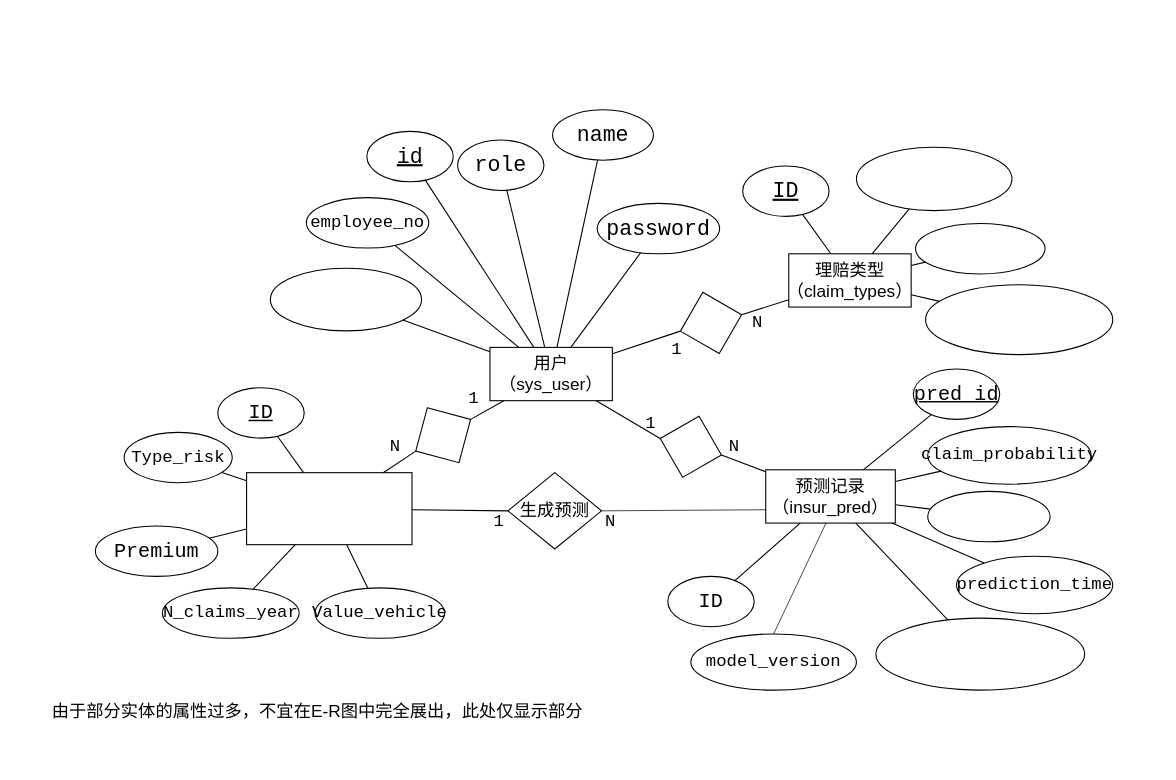
The diagram is 1176 pixels wide and 780 high, and some of its shapes have lost their labels. The box of each missing label's shape, as (x1, y1, x2, y2) in pixels:
claim_flag: (875, 617, 1085, 690)
claims_type: (915, 223, 1045, 274)
cost_claims_by_type: (925, 284, 1113, 355)
cost_claims_year: (856, 146, 1012, 211)
last_login_time: (269, 267, 422, 331)
risk_level: (927, 491, 1050, 542)
查询: (651, 407, 730, 486)
管理: (399, 391, 487, 479)
维护: (671, 283, 750, 362)
车险保单（motor_insurance）: (246, 472, 412, 545)
